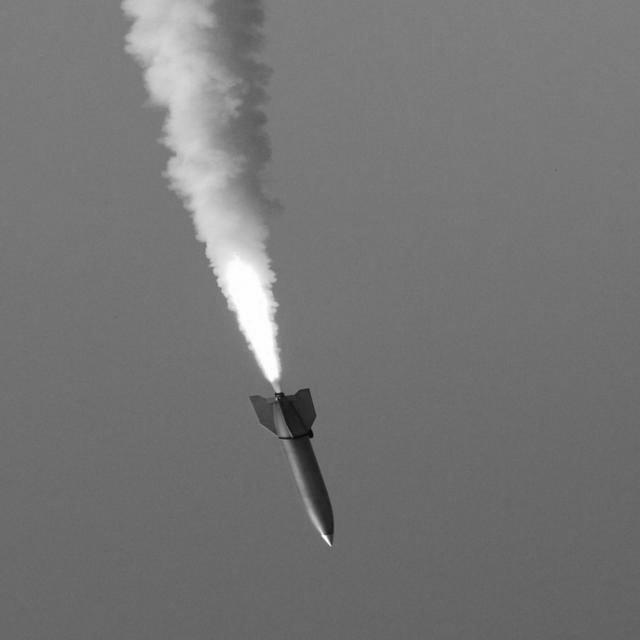missile: (247, 390, 347, 556)
